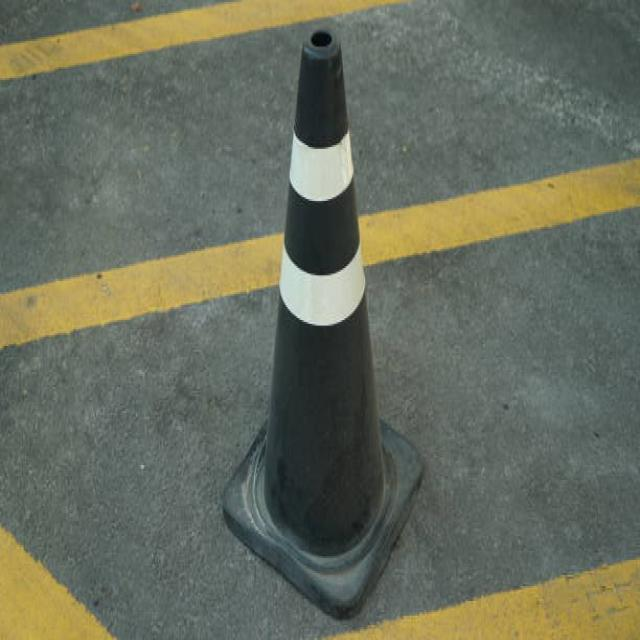Traffic Cone: (215, 4, 446, 632)
